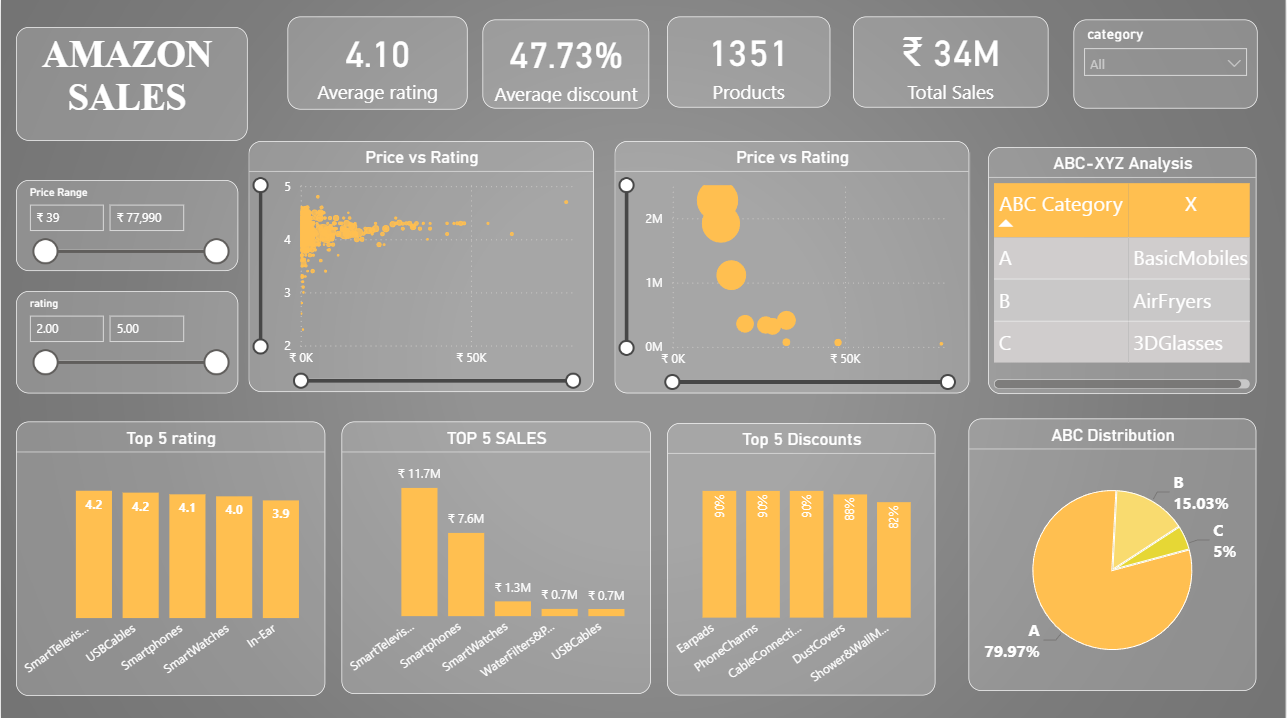

This screenshot's page, from the dashboard's own definition file:
{"tool":"powerbi","page":{"name":"Page 1","canvas":[1280,720],"ordinal":0},"visuals":[{"type":"textbox","box":[15.1,26.5,230.6,113.4],"z":0},{"type":"columnChart","title":"TOP 5 SALES","fields":{"Category":["amazon_normalized.category.2"],"Y":["Sum(amazon_normalized.discounted_price)"]},"box":[338.5,419.2,307.7,271.2],"z":1000},{"type":"clusteredColumnChart","title":"Top 5 rating ","fields":{"Category":["amazon_normalized.category.2"],"Y":["Avg(amazon_normalized.rating)"]},"box":[15.4,419.2,307.7,273.1],"z":2000},{"type":"columnChart","title":"Top 5 Discounts","fields":{"Category":["amazon_normalized.category.2"],"Y":["Avg(amazon_normalized.discount_percentage)"]},"box":[663.5,421.2,267.3,271.2],"z":3000},{"type":"scatterChart","title":"Price vs Rating","fields":{"X":["amazon_normalized.discounted_price"],"Y":["Avg(amazon_normalized.rating)"],"Size":["Sum(amazon_normalized.rating_count)"]},"box":[246.2,140.4,344.2,250],"z":4000},{"type":"scatterChart","title":"Price vs Rating","fields":{"X":["amazon_normalized.discounted_price"],"Size":["Sum(amazon_normalized.rating_count)"],"Y":["Sum(amazon_normalized.rating_count)"]},"box":[610.4,139.8,353.4,251.3],"z":5000},{"type":"slicer","fields":{"Values":["amazon_normalized.category.2"]},"box":[1067.7,18.9,183.3,88.8],"z":6000},{"type":"slicer","fields":{"Values":["amazon_normalized.discounted_price"]},"box":[15.4,178.8,221.2,90.4],"z":7000},{"type":"card","fields":{"Values":["Count(amazon_normalized.product_id)"]},"box":[663.3,17,162.5,90.7],"z":8000},{"type":"card","fields":{"Values":["Avg(amazon_normalized.discount_percentage)"]},"box":[480,18.9,166.3,88.8],"z":9000},{"type":"card","fields":{"Values":["Avg(amazon_normalized.rating)"]},"box":[285.4,17,179.5,92.6],"z":10000},{"type":"card","fields":{"Values":["Sum(amazon_normalized.discounted_price)"]},"box":[848.5,17,194.6,90.7],"z":11000},{"type":"slicer","fields":{"Values":["amazon_normalized.rating"]},"box":[15.1,289.1,221.1,102],"z":12000},{"type":"pieChart","title":"ABC Distribution","fields":{"Category":["amazon_normalized.ABC Category"],"Y":["Sum(amazon_normalized.Revenue)"]},"box":[963.5,417.3,286.5,271.2],"z":13000},{"type":"pivotTable","title":"ABC-XYZ Analysis","fields":{"Rows":["amazon_normalized.ABC Category"],"Columns":["amazon_normalized.XYZ Category"],"Values":["Min(amazon_normalized.category.2)"]},"box":[982.7,146.2,267.3,246.2],"z":14000}]}

Visuals, with their boxes in screenshot pixels (x1, y1, x2, y2), scaled from the page's 1280x720 canvas onto the 1287x718 screenshot:
textbox: (x1=15, y1=26, x2=247, y2=140)
"TOP 5 SALES" columnChart: (x1=340, y1=418, x2=650, y2=688)
"Top 5 rating " clusteredColumnChart: (x1=15, y1=418, x2=325, y2=690)
"Top 5 Discounts" columnChart: (x1=667, y1=420, x2=936, y2=690)
"Price vs Rating" scatterChart: (x1=248, y1=140, x2=594, y2=389)
"Price vs Rating" scatterChart: (x1=614, y1=139, x2=969, y2=390)
slicer - amazon_normalized.category.2: (x1=1074, y1=19, x2=1258, y2=107)
slicer - amazon_normalized.discounted_price: (x1=15, y1=178, x2=238, y2=268)
card - Count(amazon_normalized.product_id): (x1=667, y1=17, x2=830, y2=107)
card - Avg(amazon_normalized.discount_percentage): (x1=483, y1=19, x2=650, y2=107)
card - Avg(amazon_normalized.rating): (x1=287, y1=17, x2=467, y2=109)
card - Sum(amazon_normalized.discounted_price): (x1=853, y1=17, x2=1049, y2=107)
slicer - amazon_normalized.rating: (x1=15, y1=288, x2=237, y2=390)
"ABC Distribution" pieChart: (x1=969, y1=416, x2=1257, y2=687)
"ABC-XYZ Analysis" pivotTable: (x1=988, y1=146, x2=1257, y2=391)
